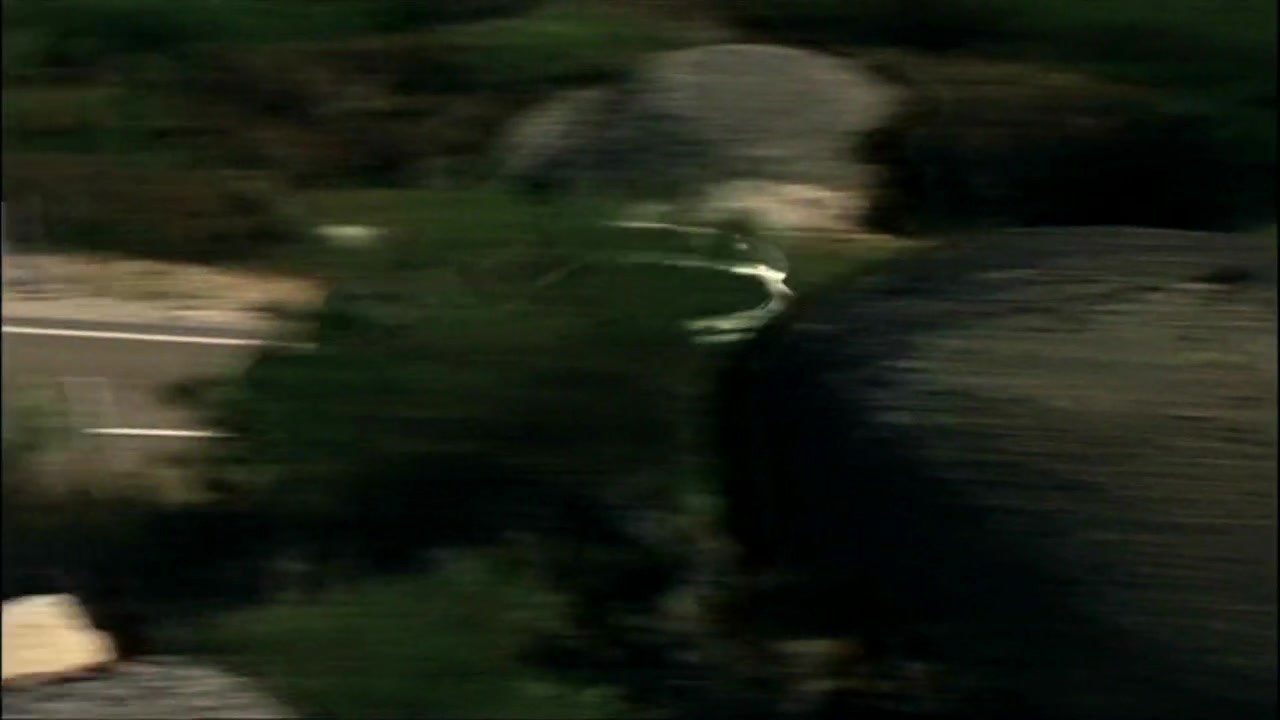car: (320, 235, 796, 383)
